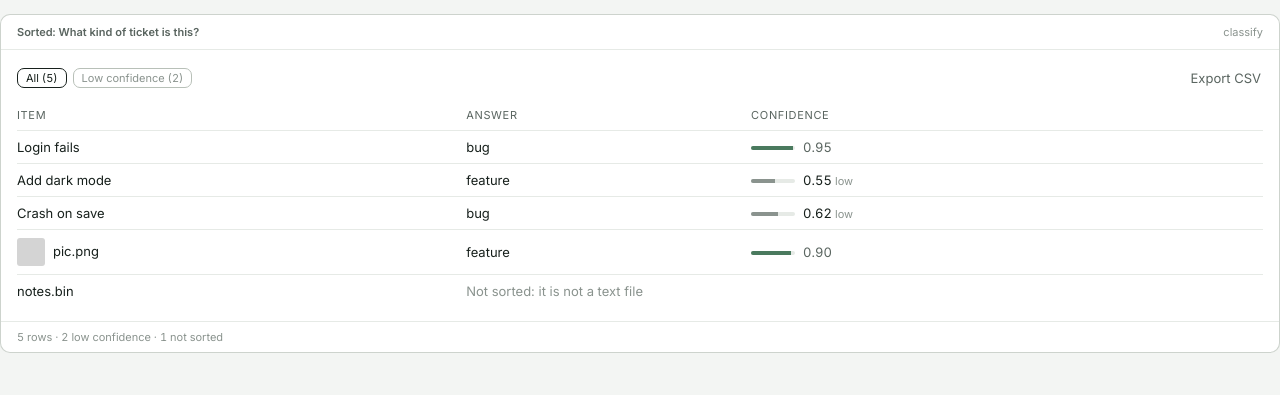
Test case: correcting a row › puts the row back and says so when the label could not be kept
What coordinates should you click on to do the following:
click the button "bug" in the row of "Login fails"
I would click on:
 (478, 147)
Its box is [466, 139, 490, 155].
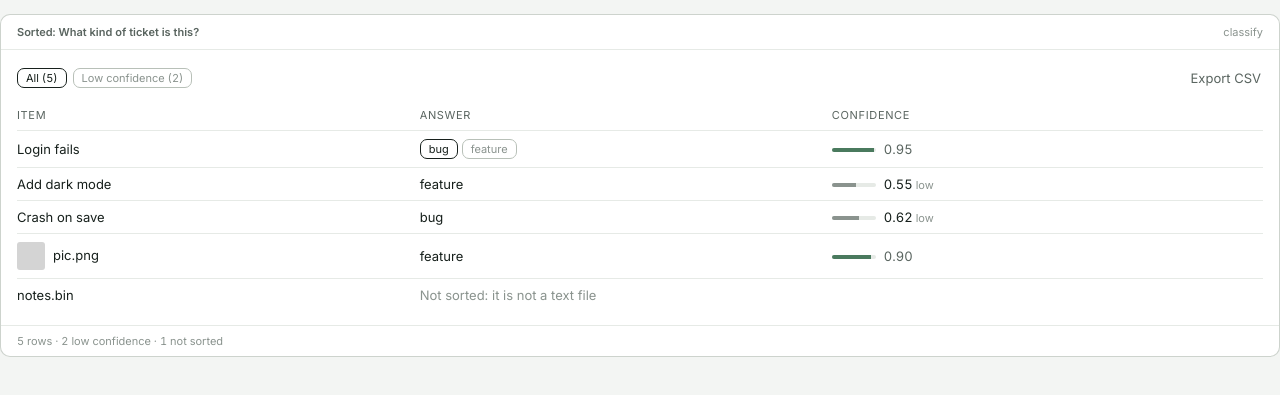
What coordinates should you click on to do the following:
click the button "feature" in the row of "Login fails"
I would click on:
 (489, 149)
Its box is [462, 139, 517, 159].
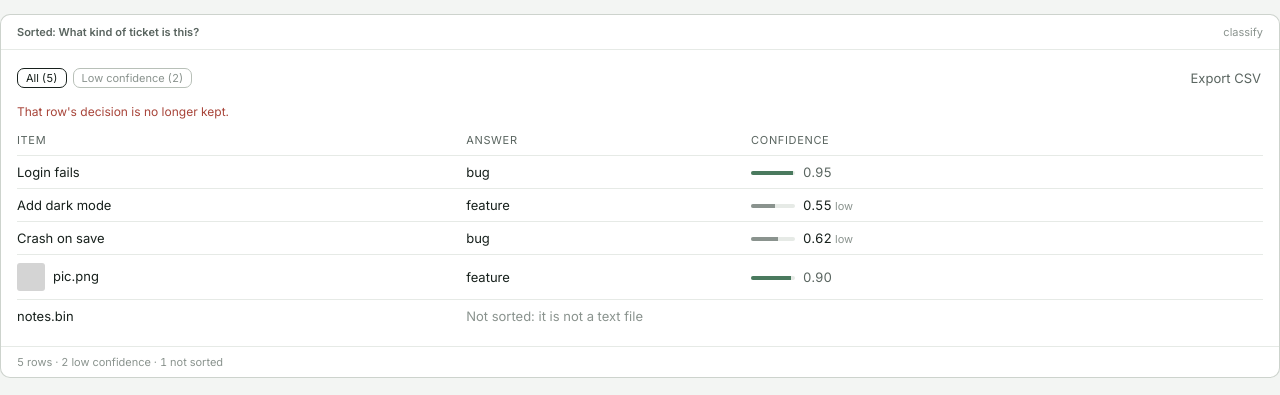
Now the message "That row's decision is no longer kept." is shown, box [17, 104, 229, 119]
